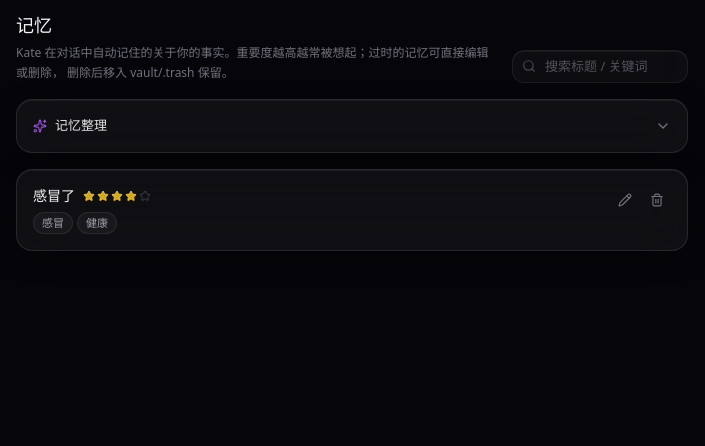
Test: MemoriesPage › 编辑：展开详情后可保存修改
The width and height of the screenshot is (705, 446).
Check: the text "感冒了" is shown, box [33,186,75,206]
Click the button named "编辑记忆".
click(625, 200)  # box [611,186,639,214]
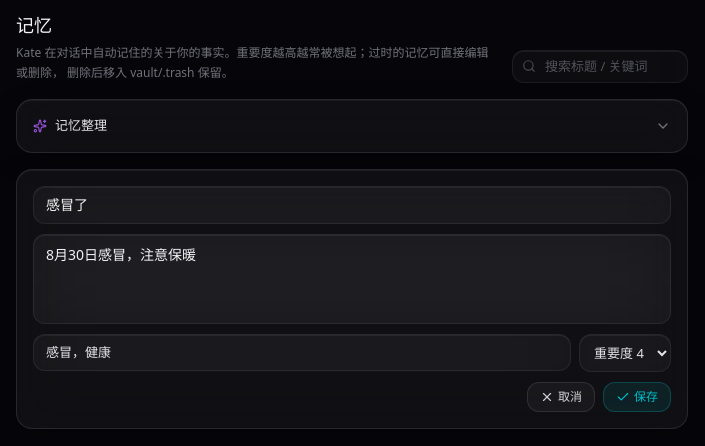
Replace the text in the 1st field showing "感冒了" with "感冒康复了" at (352,204), box [33,186,671,224]
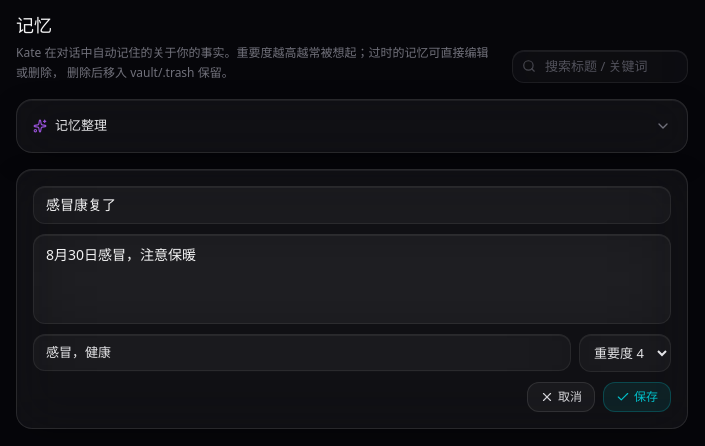
Click the button "保存".
click(637, 396)  # box [603,382,671,412]
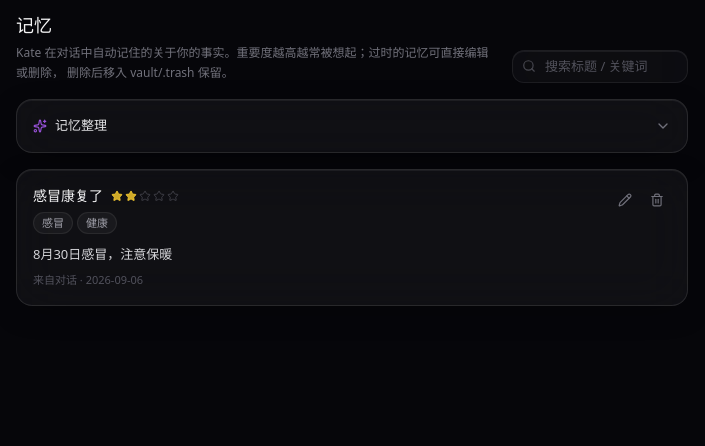
Check: the text "感冒康复了" is shown, box [33,186,103,206]
